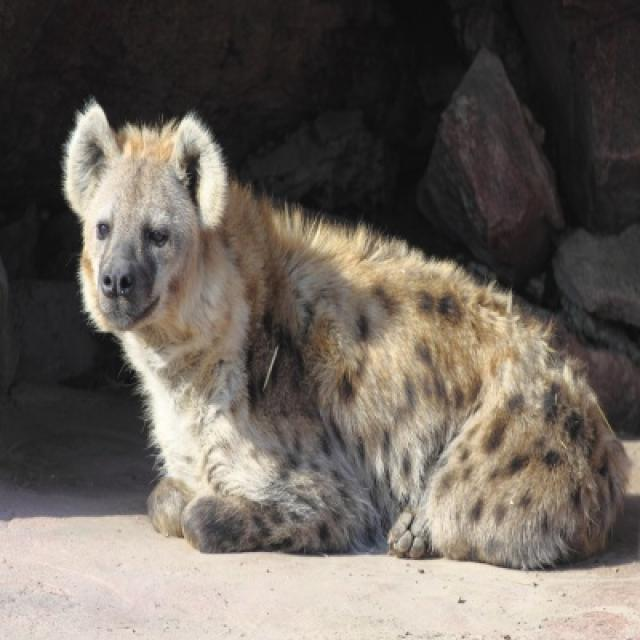hyena: (61, 99, 632, 573)
